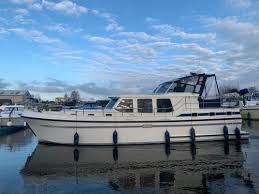boat: (19, 70, 251, 147), (1, 103, 27, 126)
